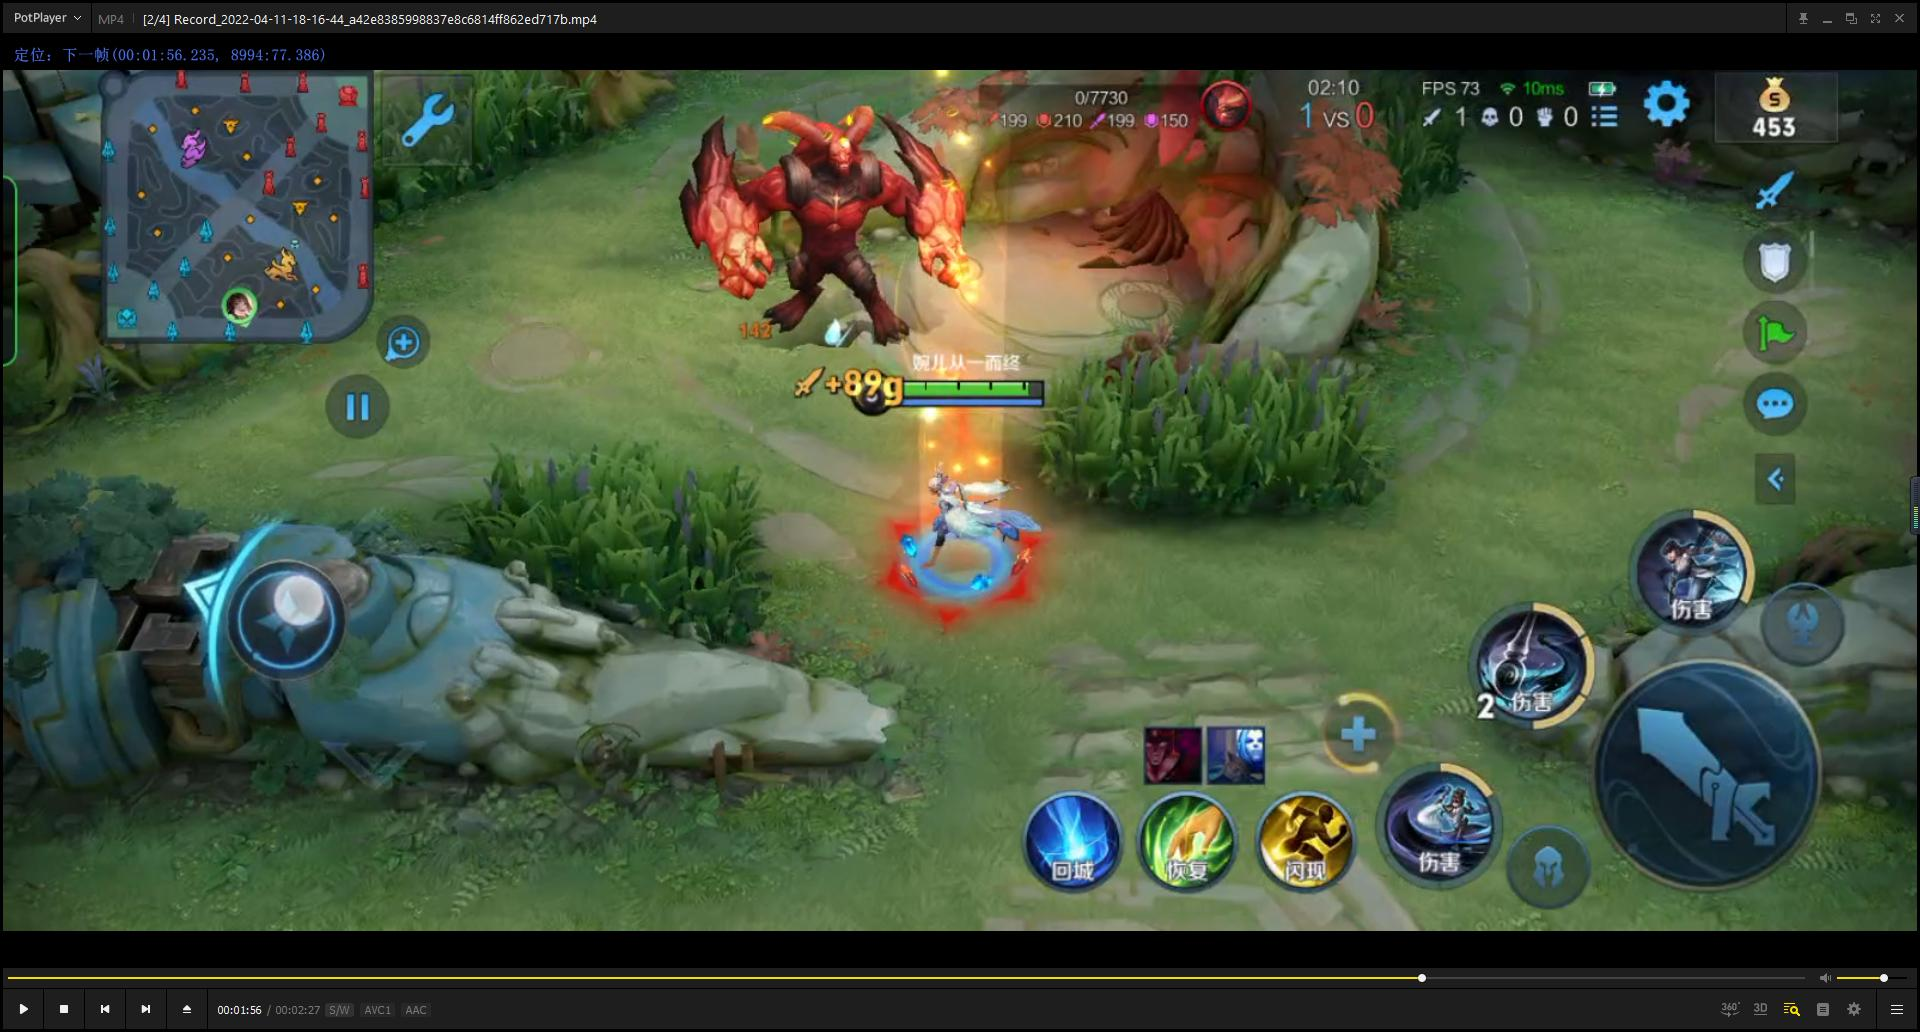Buff: (665, 86, 986, 353)
Hero: (862, 455, 1060, 621)
